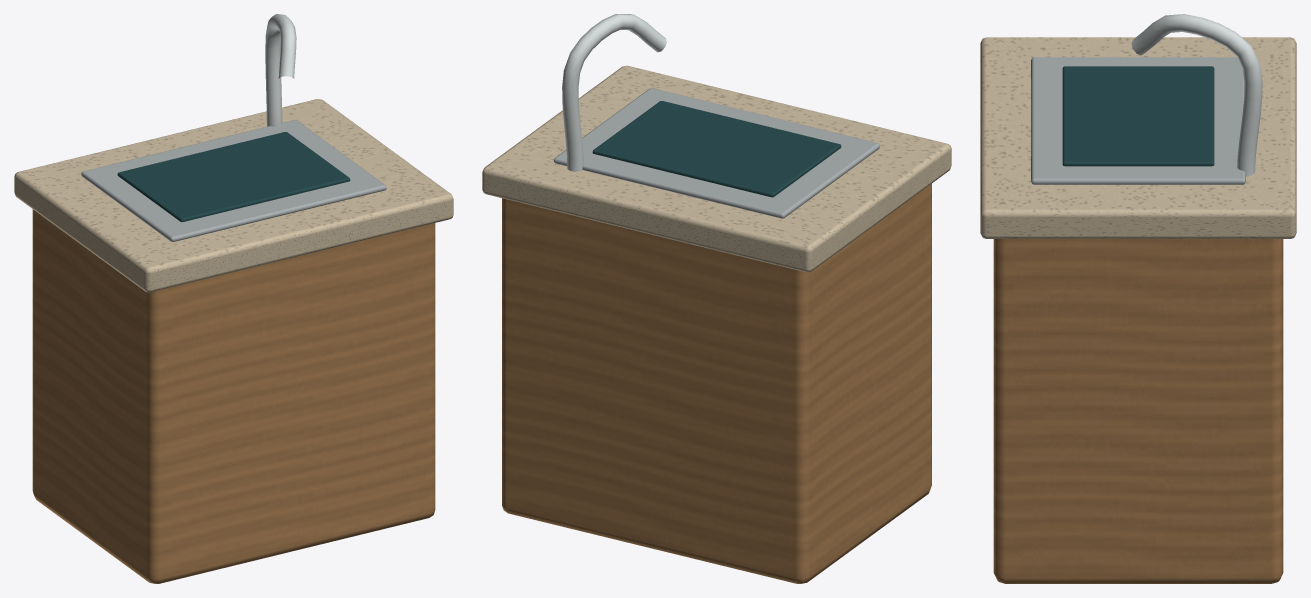
The model's file is sink-20a6eb38acb0.glb.
3 views of the same model, side by side, from view 1: azimuth 30°, elevation 25°; view 2: azimuth 150°, elevation 25°; view 3: azimuth 270°, elevation 25° (orthographic). The views are drawn at different scales.
Visible parts, largest first — view 1: surface_oak, surface_terrazzo, surface_deep, surface_steel, surface_chrome; view 2: surface_oak, surface_terrazzo, surface_deep, surface_steel, surface_chrome; view 3: surface_oak, surface_terrazzo, surface_deep, surface_steel, surface_chrome.
Part boxes in pixels (box(x1,y1,x2,y2)): surface_oak: box(32, 209, 435, 583); surface_terrazzo: box(14, 99, 453, 292); surface_deep: box(117, 132, 350, 221); surface_steel: box(81, 120, 386, 241); surface_chrome: box(265, 14, 296, 126); surface_oak: box(502, 184, 931, 583); surface_terrazzo: box(482, 65, 951, 272); surface_deep: box(592, 101, 841, 197); surface_steel: box(554, 88, 879, 218); surface_chrome: box(562, 14, 666, 171); surface_oak: box(993, 239, 1283, 583); surface_terrazzo: box(980, 37, 1296, 238); surface_deep: box(1062, 66, 1214, 166); surface_steel: box(1031, 57, 1245, 184); surface_chrome: box(1131, 14, 1262, 175).
Size of the model in its own units: 0.86 by 1.21 by 0.65.
Materials: 5 (2 with a texture image).
